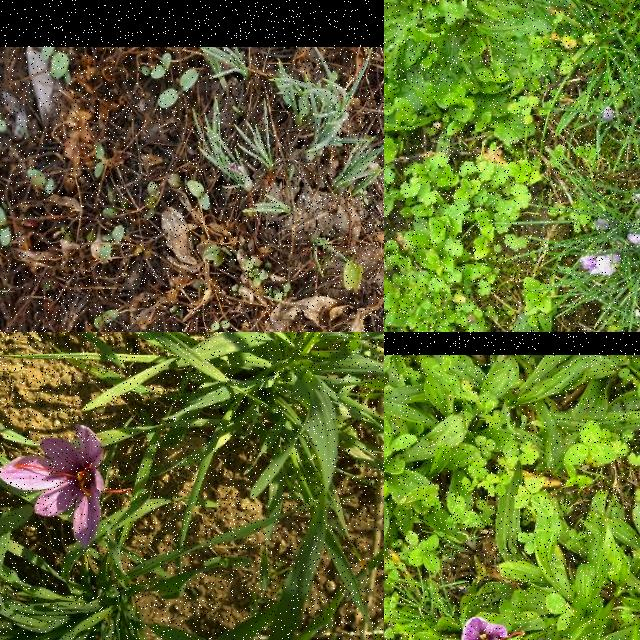flower: (0, 425, 135, 547), (461, 617, 524, 640), (626, 230, 640, 248)
overlap: (580, 255, 620, 278)
